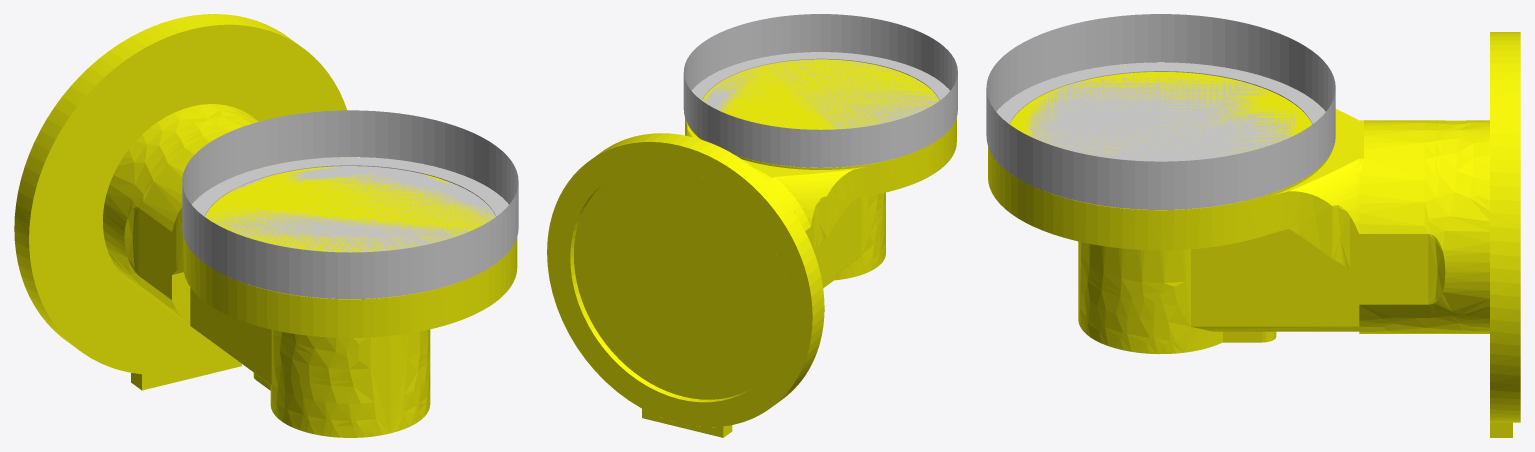
3 views of the same model, side by side, from view 1: azimuth 30°, elevation 25°; view 2: azimuth 150°, elevation 25°; view 3: azimuth 270°, elevation 25° (orthographic). The views are drawn at different scales.
Visible parts, largest first — view 1: node; view 2: node; view 3: node.
Part boxes in pixels (x1,y1,x2,y2): node: (14,14,518,437); node: (547,14,957,437); node: (986,14,1520,437).
Bounding box in the file's own units: 424 × 434 × 580.
